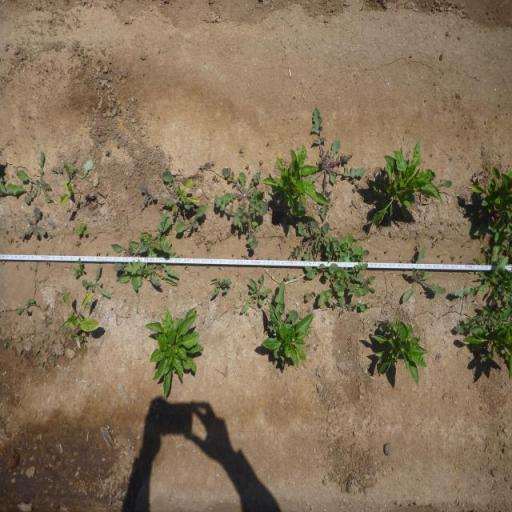plant: (367, 138, 440, 227), (144, 305, 203, 399), (260, 142, 329, 208), (370, 315, 430, 389), (260, 307, 315, 370), (467, 162, 512, 227), (461, 333, 512, 382), (60, 292, 100, 339), (172, 178, 199, 211), (59, 179, 83, 207)
weed: (309, 105, 367, 223), (215, 166, 269, 251), (450, 228, 512, 298), (318, 232, 370, 307), (141, 208, 183, 280), (400, 244, 447, 305), (286, 214, 332, 271), (17, 149, 54, 206), (114, 260, 179, 292), (451, 300, 512, 332), (238, 272, 273, 317), (109, 240, 149, 274), (174, 202, 208, 239), (81, 263, 111, 300), (17, 204, 46, 237), (328, 296, 368, 316), (63, 160, 93, 178), (161, 169, 175, 206), (210, 276, 232, 298), (140, 183, 158, 207), (16, 297, 35, 316), (71, 258, 86, 276), (364, 274, 378, 292), (375, 318, 390, 334), (75, 222, 88, 237), (303, 290, 316, 304), (211, 174, 220, 184), (352, 182, 360, 191), (52, 351, 60, 360), (206, 243, 213, 252), (240, 254, 250, 259), (284, 273, 290, 281), (75, 240, 81, 248), (44, 261, 52, 267), (104, 149, 111, 155), (416, 244, 422, 250), (448, 156, 454, 162), (3, 342, 9, 348), (72, 182, 78, 188), (35, 346, 40, 353), (40, 361, 45, 368), (254, 332, 258, 340), (306, 343, 312, 348), (245, 163, 250, 169), (210, 160, 215, 165), (16, 264, 20, 270), (259, 160, 264, 164), (200, 164, 204, 168), (18, 338, 22, 342), (353, 178, 356, 183), (16, 168, 18, 175), (10, 345, 12, 349)
